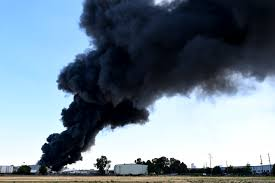smoke: (85, 1, 275, 78)
